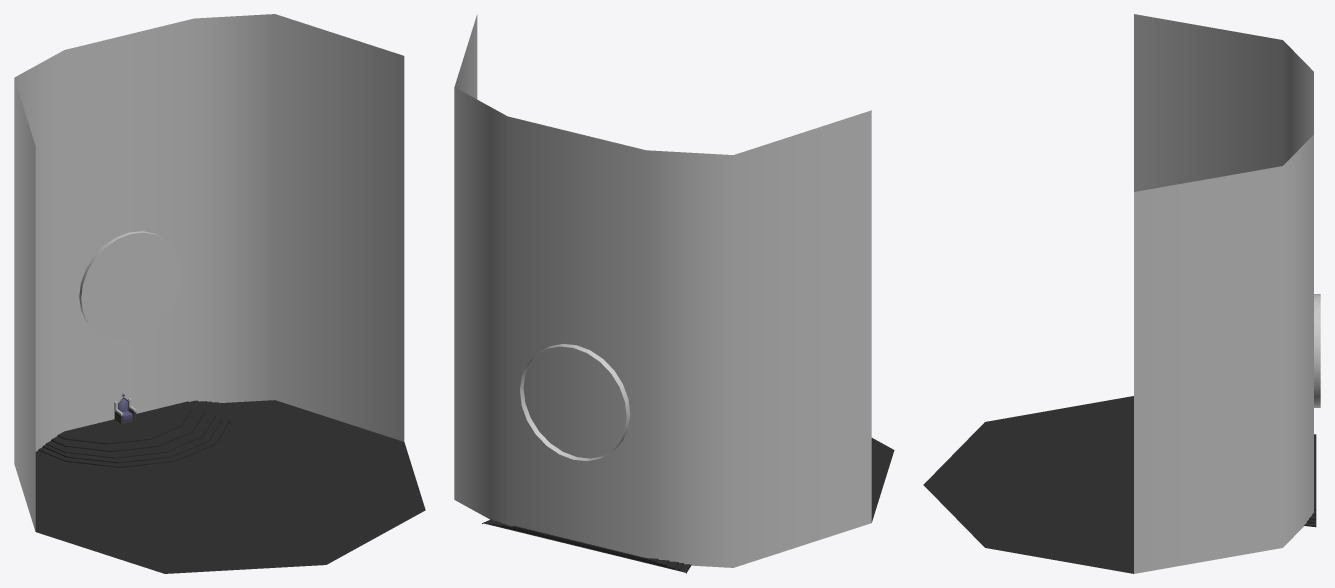
File: Dest_Throne_Field.FBX
3 renders of one model, left to right at view 1: azimuth 30°, elevation 25°; view 2: azimuth 150°, elevation 25°; view 3: azimuth 270°, elevation 25°, orthographic. The views are drawn at different scales.
Visible parts, largest first — view 1: Cylinder001; view 2: Cylinder001; view 3: Cylinder001.
Boxes of the visible parts, box(x1,y1,x2,y2) form: Cylinder001: box(14, 14, 425, 573); Cylinder001: box(454, 14, 894, 573); Cylinder001: box(923, 14, 1320, 573).
Size of the model in its own units: 200 by 200 by 189.
